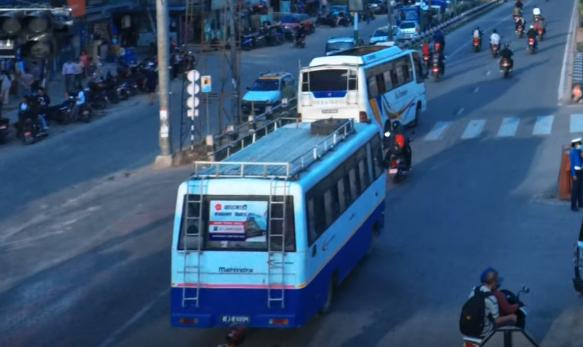bus: (164, 115, 390, 326), (292, 37, 434, 140)
